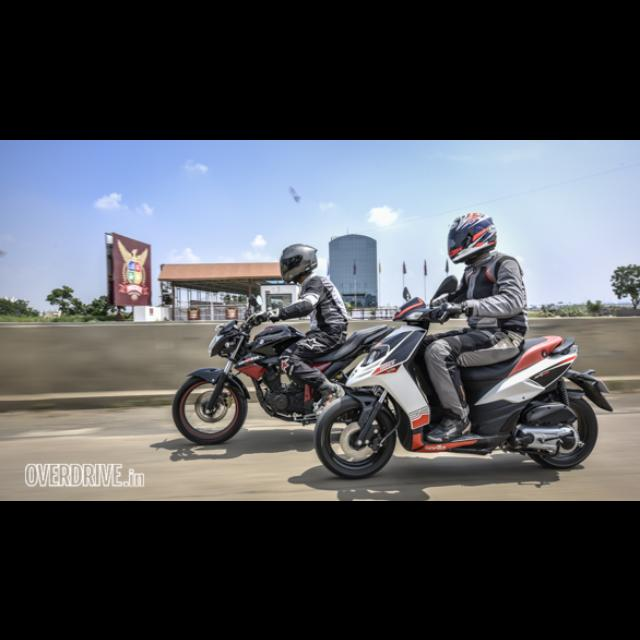With Helmet: (444, 210, 498, 262), (278, 240, 318, 278)
